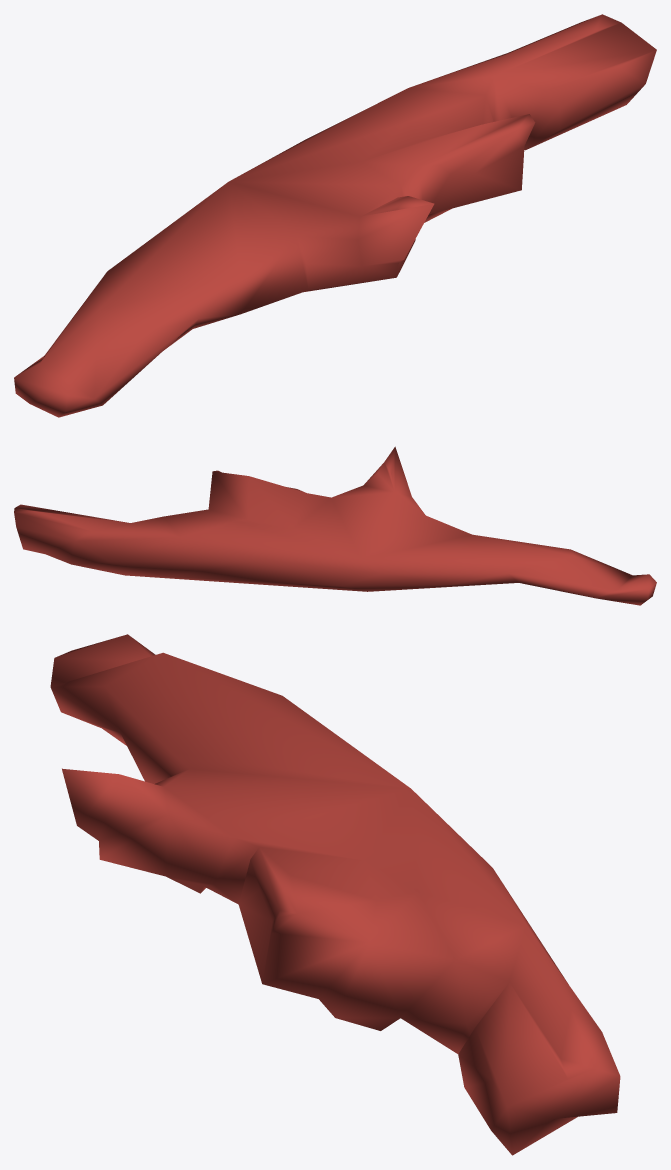
The model's file is musculos-transverse-head-of-adductor-hallucis-l.glb.
The picture shows the model from 3 angles, top to bottom: view 1: azimuth 30°, elevation 25°; view 2: azimuth 150°, elevation 25°; view 3: azimuth 270°, elevation 25°; orthographic projection. The views are drawn at different scales.
Visible parts, largest first — view 1: Transverse head of adductor hallucis.l; view 2: Transverse head of adductor hallucis.l; view 3: Transverse head of adductor hallucis.l.
Boxes of the visible parts, bbox=[...] form: Transverse head of adductor hallucis.l: bbox=[14, 14, 656, 417]; Transverse head of adductor hallucis.l: bbox=[14, 446, 656, 605]; Transverse head of adductor hallucis.l: bbox=[50, 634, 620, 1155].
Size of the model in its own units: 0.0481 by 0.0074 by 0.0223.
